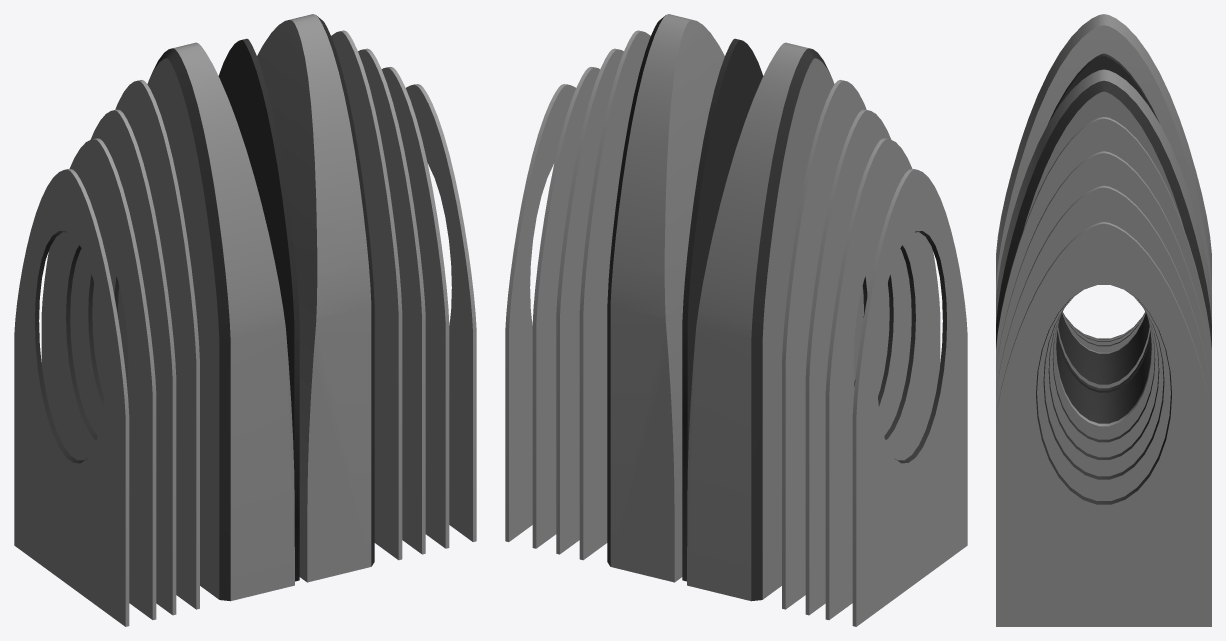
The model's file is build6.gltf.
The picture shows the model from 3 angles, left to right: view 1: azimuth 30°, elevation 25°; view 2: azimuth 150°, elevation 25°; view 3: azimuth 270°, elevation 25°; orthographic projection. The views are drawn at different scales.
Parts seen in each view (by area): view 1: Object_53.001; view 2: Object_53.001; view 3: Object_53.001.
Part boxes in pixels (x1=…): Object_53.001: x1=14, y1=14, x2=476, y2=626; Object_53.001: x1=505, y1=14, x2=967, y2=626; Object_53.001: x1=996, y1=14, x2=1211, y2=626.
Size of the model in its own units: 9.21 by 12.82 by 5.05.
Materials: 3 (1 with a texture image).
